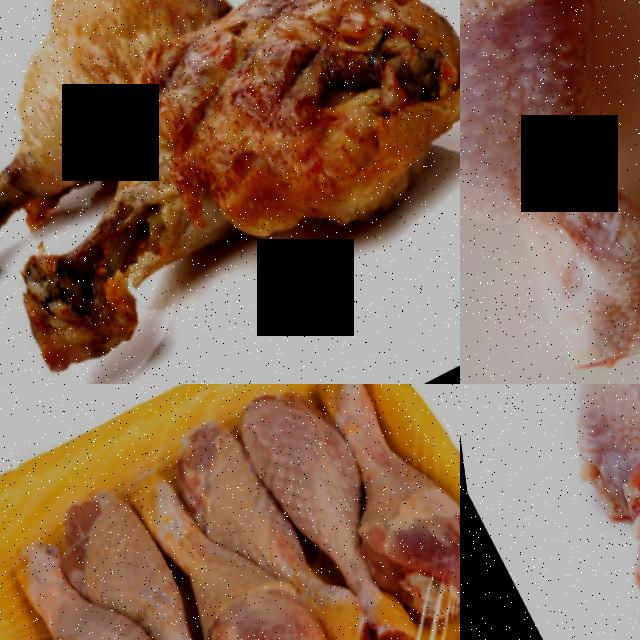chicken thigh: (0, 0, 460, 384), (460, 0, 640, 384), (218, 384, 422, 640), (112, 435, 335, 640), (282, 384, 460, 640), (58, 467, 251, 640), (0, 506, 198, 640)
chicken wing: (578, 384, 640, 640), (518, 384, 640, 487)
